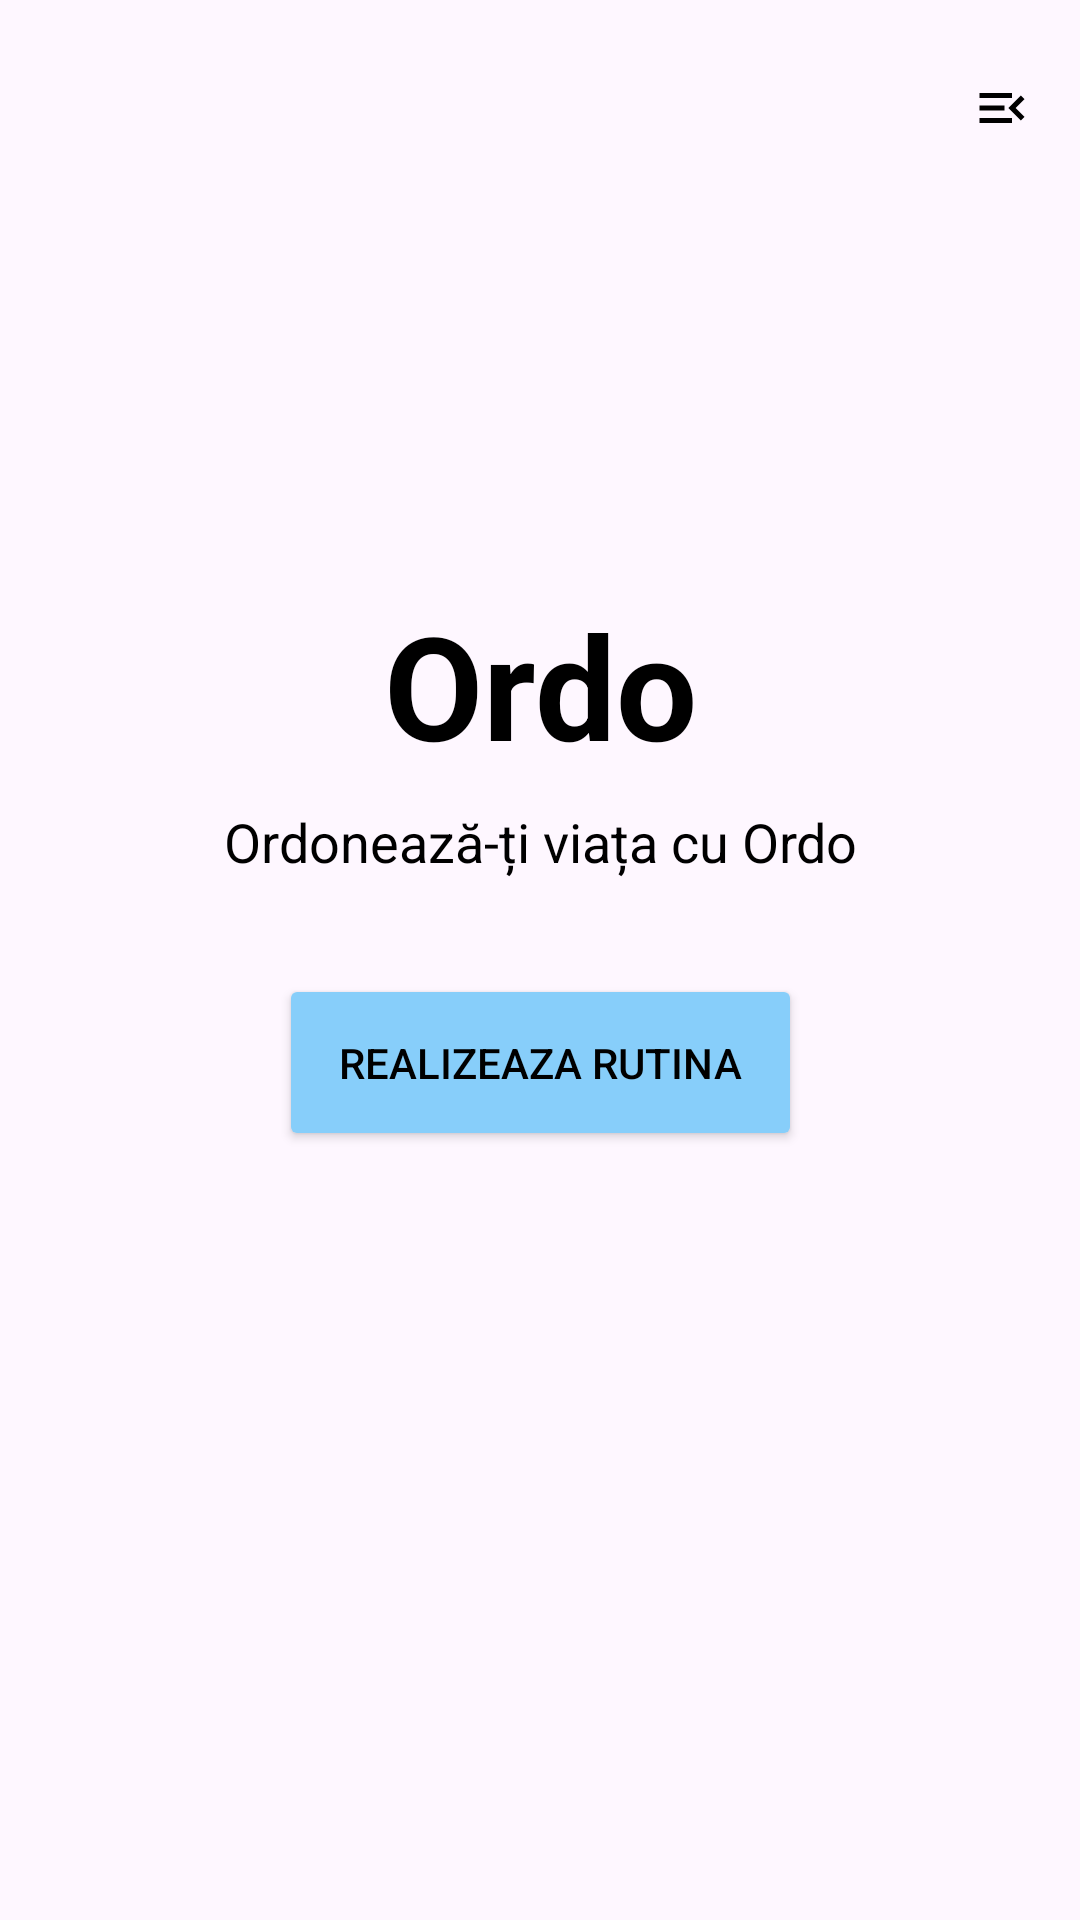

Named icons in this screenshot (1080x1920) and their bounding boxes, detection(x1, y1, x2, y2):
Meniu Optiuni: detection(979, 93, 1025, 123)
